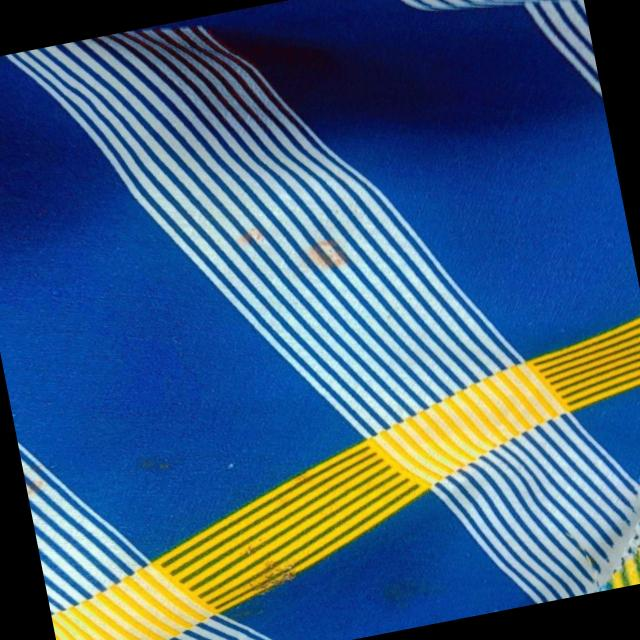stain: (222, 197, 372, 293), (356, 558, 454, 619), (119, 438, 198, 482)
